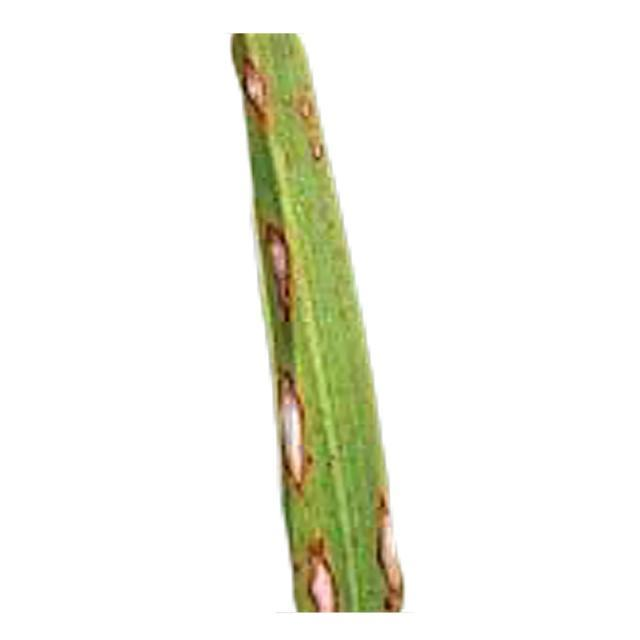Leaf_Blast: (263, 362, 329, 509), (251, 197, 316, 334), (363, 483, 418, 613), (224, 33, 281, 147), (281, 524, 352, 614), (289, 59, 342, 173)
